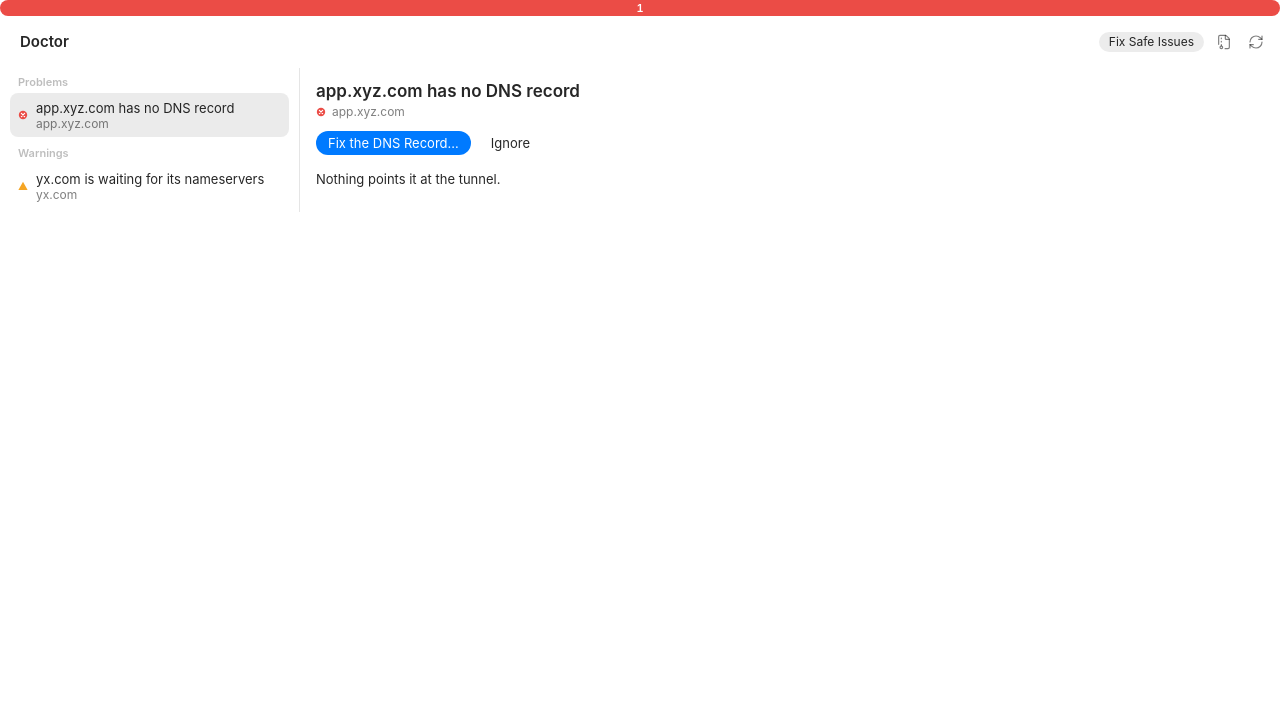
it: DoctorPage › reviews a fix as a plan
Click the button "Fix the DNS Record…": [393, 143] box [316,131,471,155]
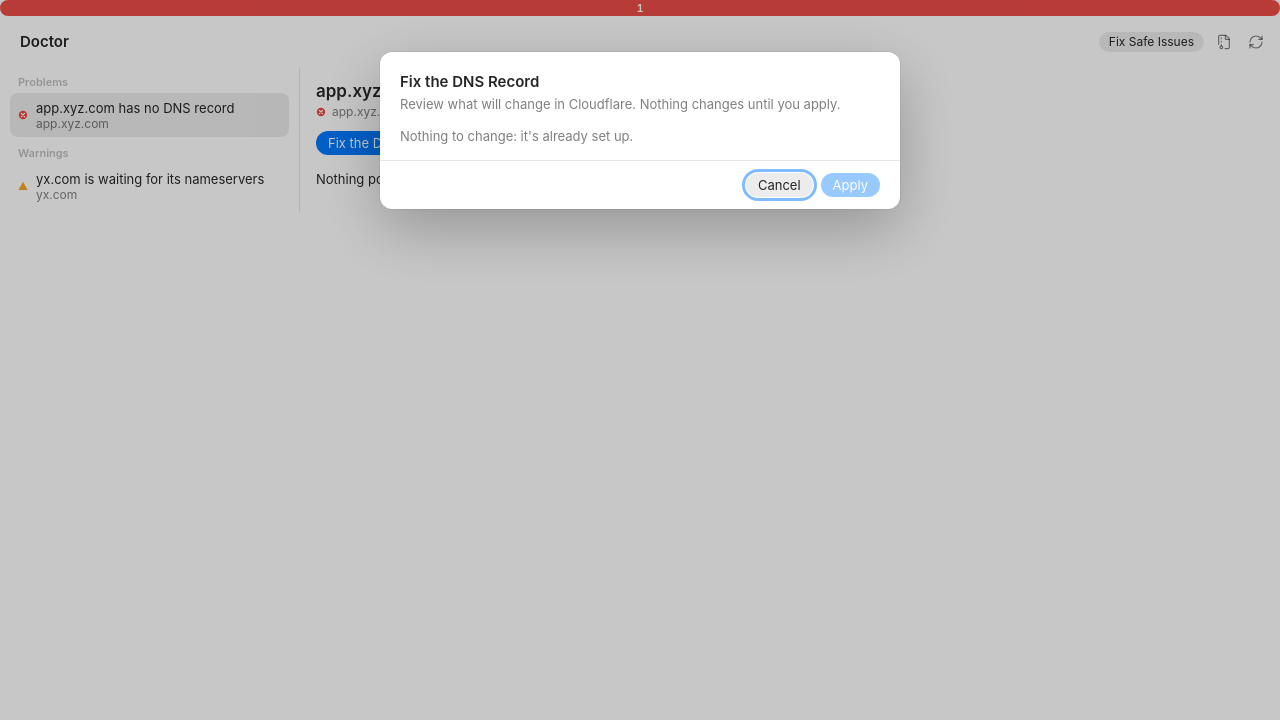
Result: the dialog "Fix the DNS Record" is shown at [380,52,900,209]
